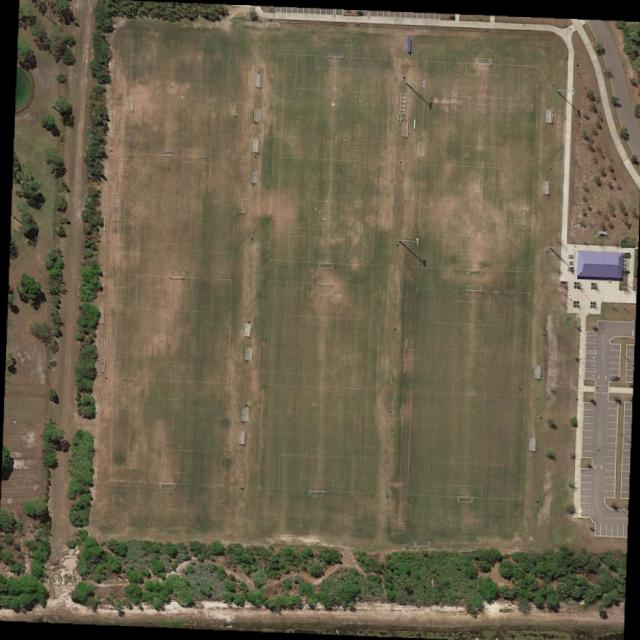small-vehicle: (609, 375, 618, 380)
